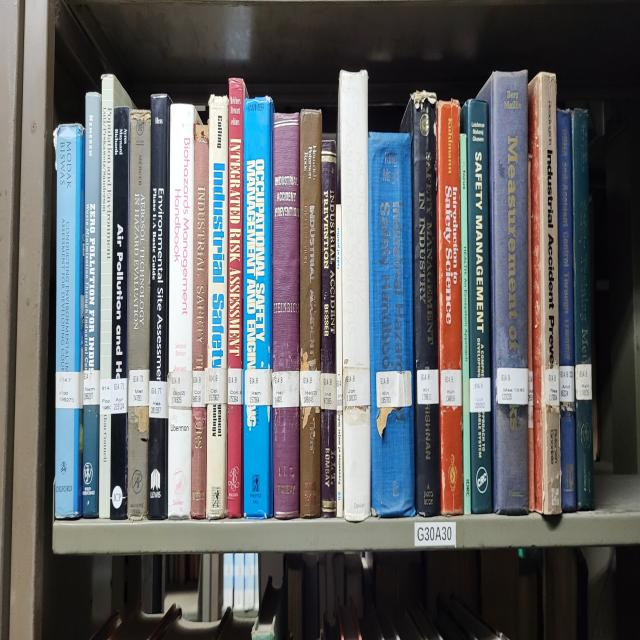Book: (479, 70, 529, 514), (368, 133, 415, 517), (400, 92, 440, 517), (99, 73, 132, 519), (528, 73, 561, 517), (338, 70, 370, 522), (242, 97, 274, 519), (168, 103, 199, 519), (461, 100, 492, 514), (54, 124, 85, 519), (272, 114, 300, 519), (436, 100, 462, 514), (148, 95, 171, 519), (206, 95, 229, 519), (226, 78, 248, 517), (128, 111, 151, 519), (571, 108, 594, 509), (300, 108, 321, 517), (110, 106, 130, 519), (82, 92, 101, 517), (556, 108, 576, 511), (191, 124, 209, 519), (321, 135, 336, 373)
Label: (376, 371, 412, 409), (496, 368, 528, 406), (344, 368, 370, 409), (244, 368, 272, 406), (272, 371, 300, 409), (55, 371, 82, 409), (168, 371, 192, 409), (416, 368, 439, 406), (205, 368, 228, 403), (470, 376, 491, 414), (129, 368, 149, 406), (149, 381, 168, 419), (300, 371, 320, 406), (441, 371, 461, 406), (575, 363, 592, 400), (320, 373, 336, 411), (559, 365, 575, 403), (111, 379, 128, 414), (84, 371, 100, 406), (228, 368, 242, 406), (545, 368, 559, 406), (192, 371, 205, 409), (100, 379, 111, 414)
